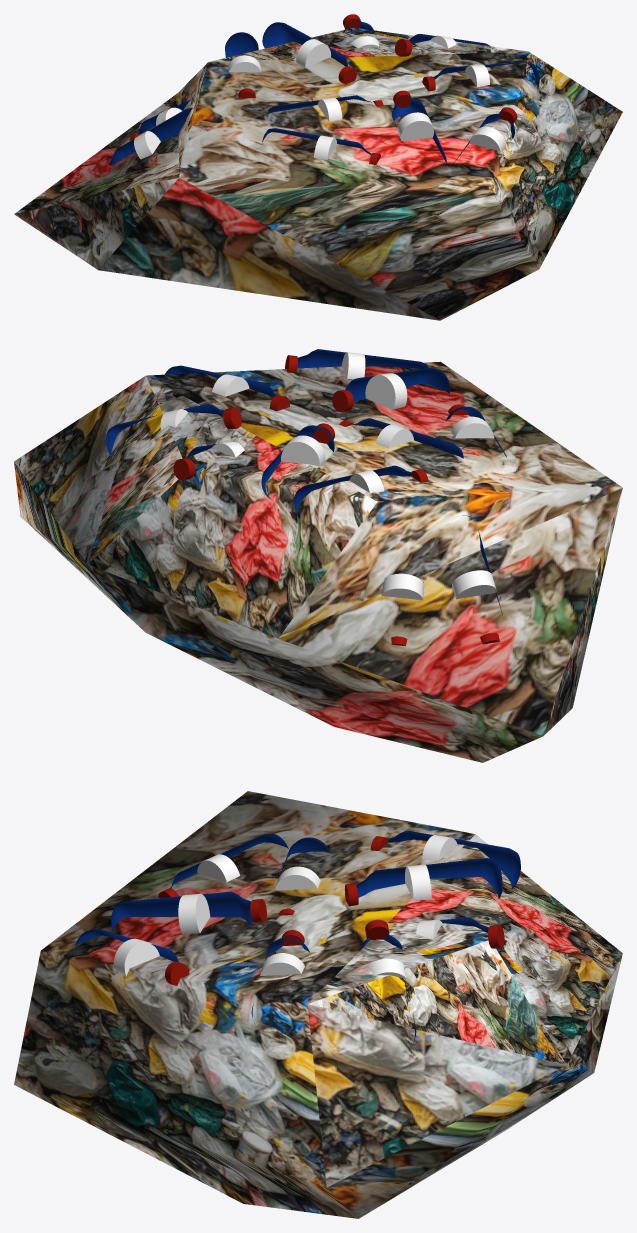
The model's file is CHECKSKRALD6.fbx.
3 views of the same model, one above another, from view 1: azimuth 30°, elevation 25°; view 2: azimuth 150°, elevation 25°; view 3: azimuth 270°, elevation 25° (orthographic). The views are drawn at different scales.
Parts seen in each view (by area): view 1: Icosphere; view 2: Icosphere; view 3: Icosphere.
Part boxes in pixels (x1,y1,x2,y2): Icosphere: (14, 14, 622, 320); Icosphere: (14, 349, 622, 762); Icosphere: (14, 791, 622, 1218).
Bounding box in the file's own units: 139 × 47.31 × 107.
Materials: 4 (1 with a texture image).
